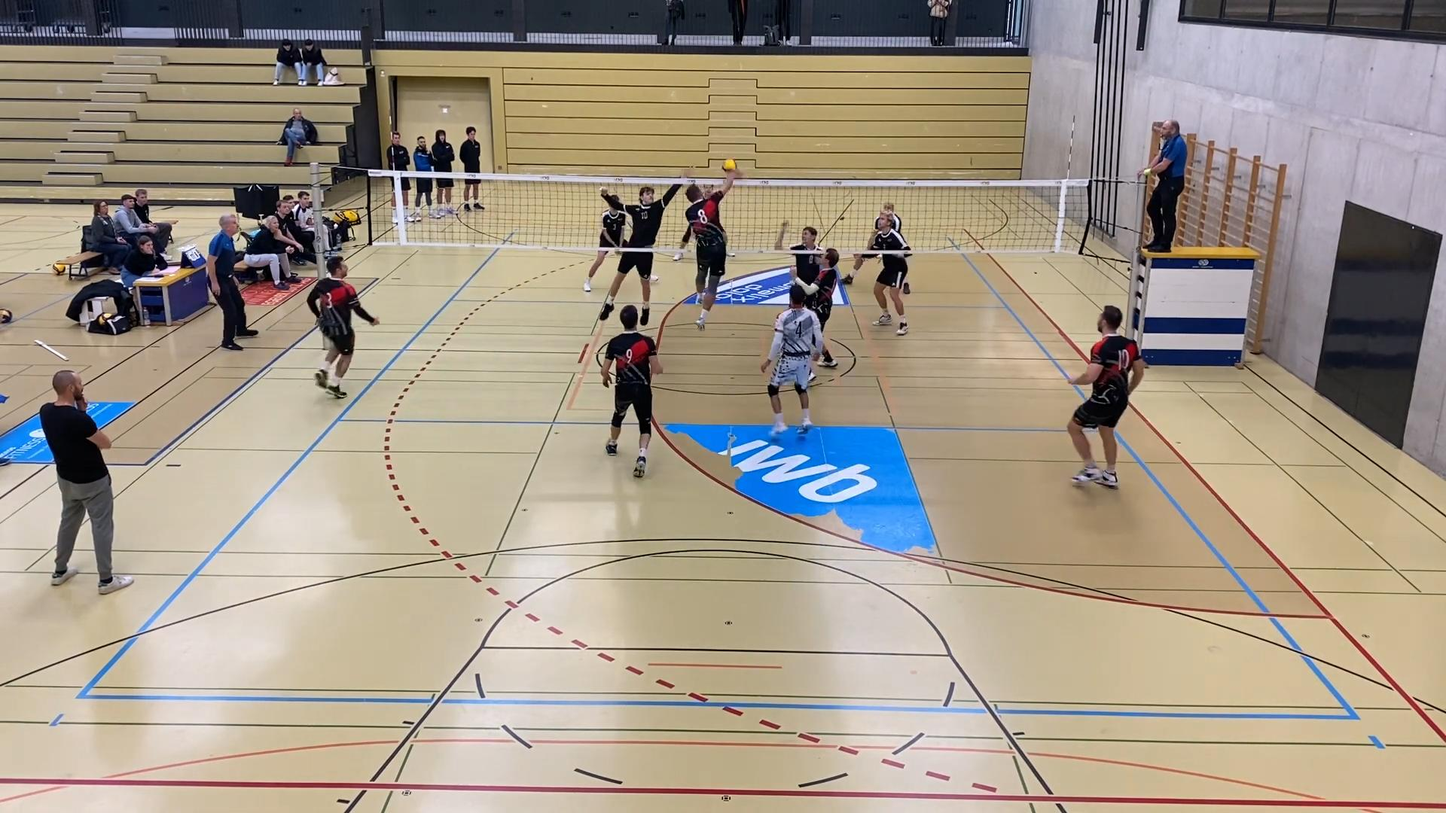Attack: (681, 177, 740, 329)
Block: (594, 167, 689, 321)
Player: (1066, 306, 1145, 488), (601, 305, 662, 477), (307, 255, 379, 397), (761, 285, 822, 438), (862, 215, 910, 335), (789, 227, 837, 330), (583, 207, 626, 291), (803, 248, 839, 332), (673, 224, 693, 262), (878, 203, 901, 234)
ball: (720, 155, 738, 176)
